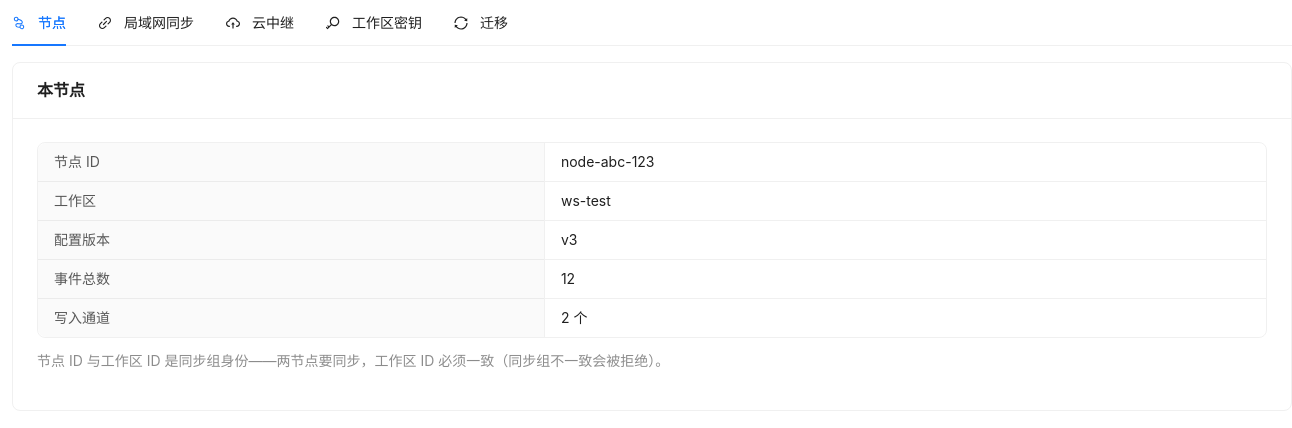
局域网同步 › 回合结果渲染：peer 标签 + 拉取/接受统计 + 错误消息
Click the tab "局域网同步": x=146, y=23 [98,12,194,34]
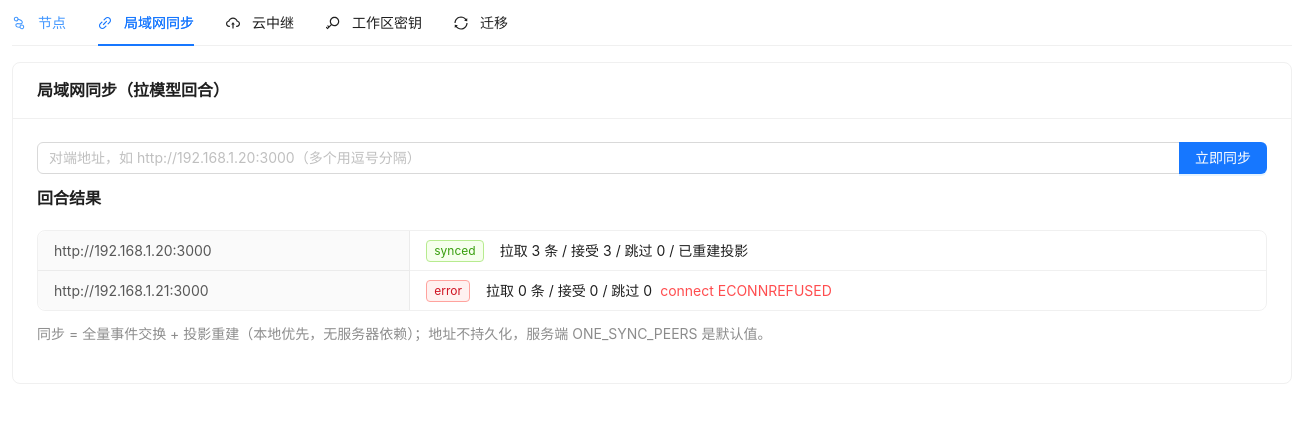
Check: the text "http://192.168.1.20:3000" is shown, box [54,242,212,258]
Check: the text "拉取 3 条 / 接受 3 / 跳过 0 / 已重建投影" is shown, box [500,242,748,258]
Check: the text "synced" is shown, box [426,240,484,262]
